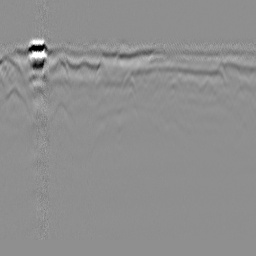cavity: (120, 71, 138, 93)
